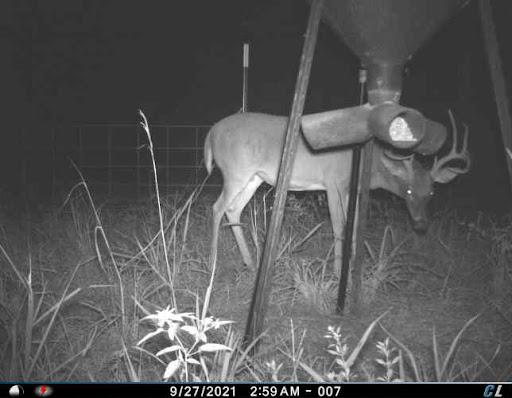Deer: (204, 97, 476, 284)
